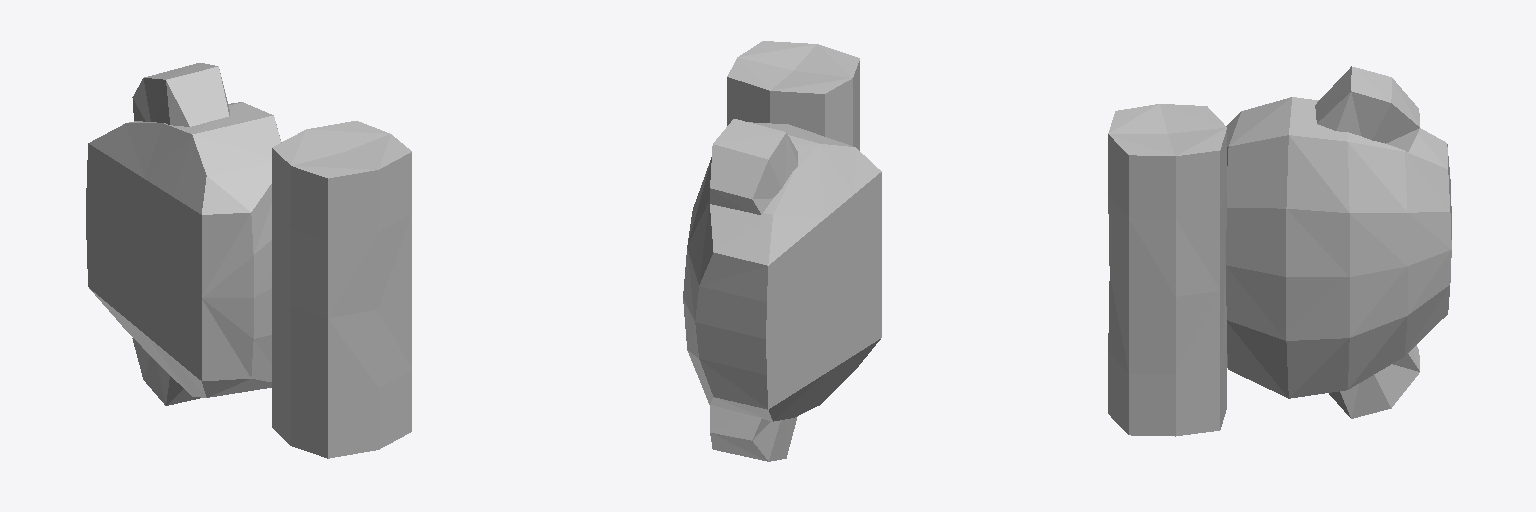
File: adventureBackpack.obj
The picture shows the model from 3 angles: view 1: azimuth 30°, elevation 25°; view 2: azimuth 150°, elevation 25°; view 3: azimuth 270°, elevation 25°; orthographic projection.
Parts seen in each view (by area): view 1: backpack_Cube.001; view 2: backpack_Cube.001; view 3: backpack_Cube.001.
Boxes of the visible parts, x1=… form: backpack_Cube.001: x1=86, y1=63, x2=411, y2=458; backpack_Cube.001: x1=683, y1=41, x2=881, y2=461; backpack_Cube.001: x1=1108, y1=66, x2=1451, y2=436.
Bounding box in the file's own units: 0.3393 × 0.6324 × 0.6008.